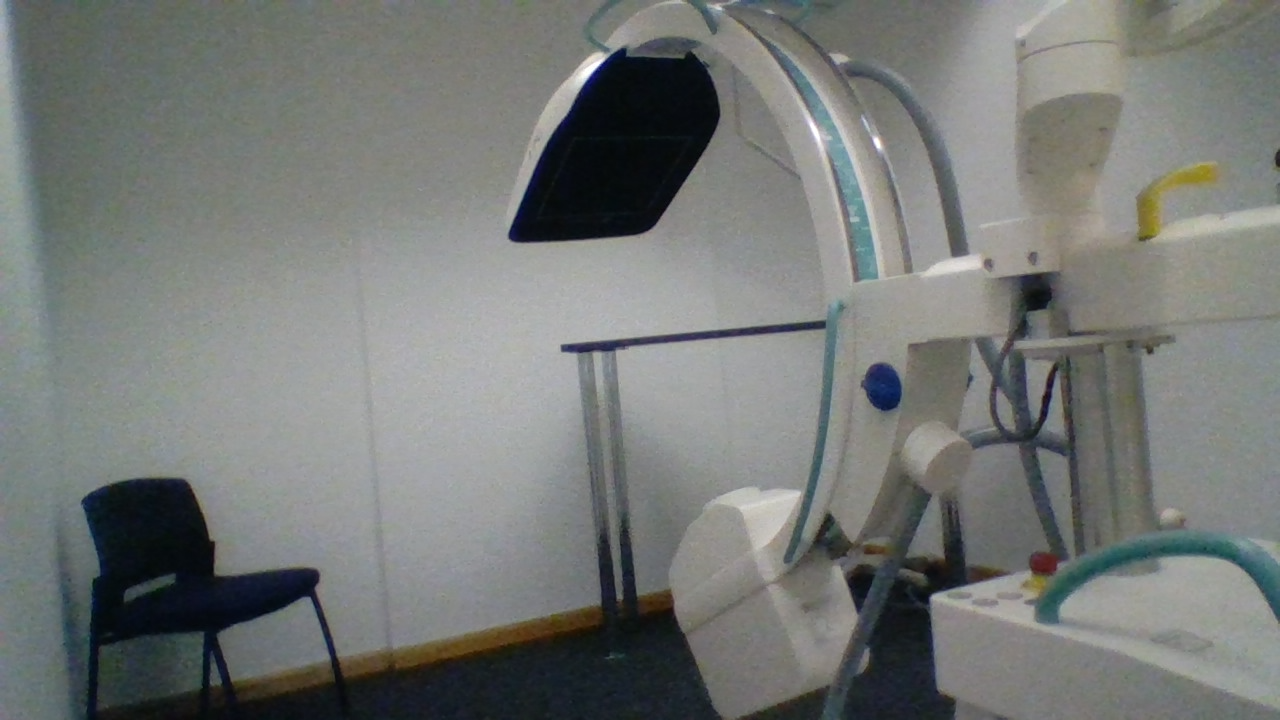carmDOWN: (669, 483, 827, 608)
carmLOCK: (861, 359, 899, 412)
carmUP: (504, 43, 724, 244)
